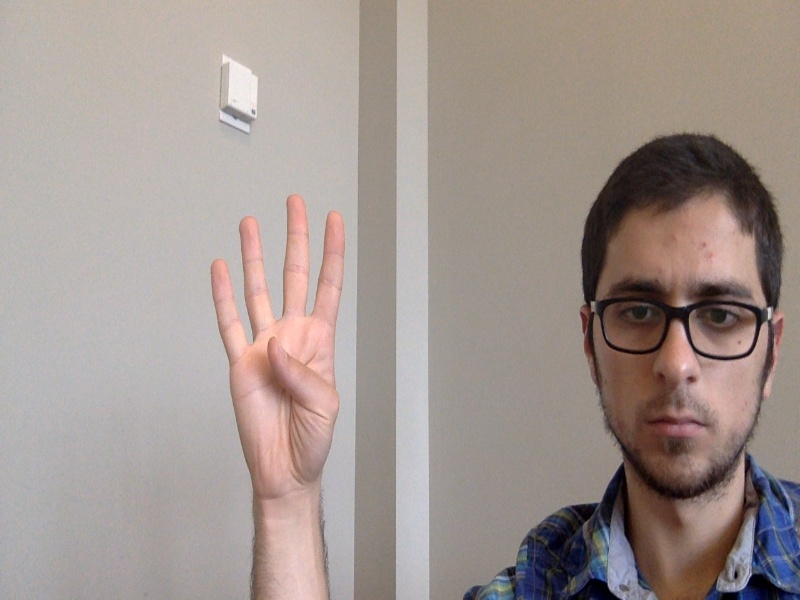4-hand: (210, 196, 349, 498)
